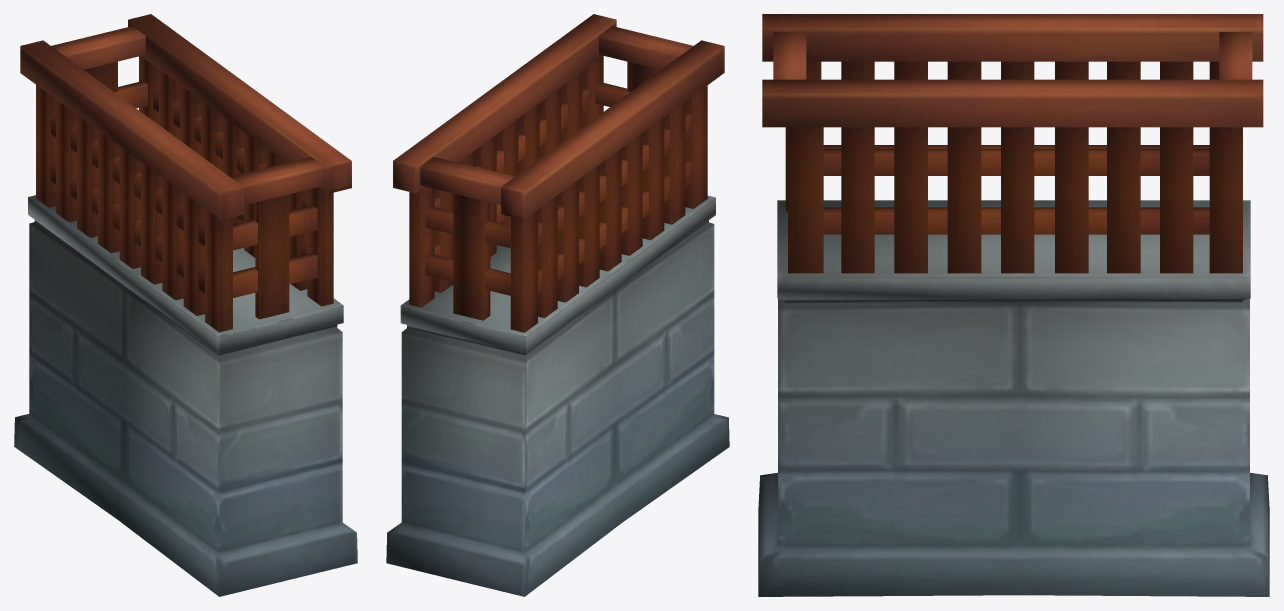
Rendered from dj_weilan.FBX.
The picture shows the model from 3 angles, left to right: view 1: azimuth 30°, elevation 25°; view 2: azimuth 150°, elevation 25°; view 3: azimuth 270°, elevation 25°; orthographic projection. The views are drawn at different scales.
Visible parts, largest first — view 1: dj_jianzhu_weiqiang; view 2: dj_jianzhu_weiqiang; view 3: dj_jianzhu_weiqiang.
Part boxes in pixels (left/top/right/bottom): dj_jianzhu_weiqiang: left=14, top=14, right=357, bottom=596; dj_jianzhu_weiqiang: left=386, top=14, right=729, bottom=596; dj_jianzhu_weiqiang: left=758, top=14, right=1269, bottom=596.
Size of the model in its own units: 87.16 by 242 by 224.
